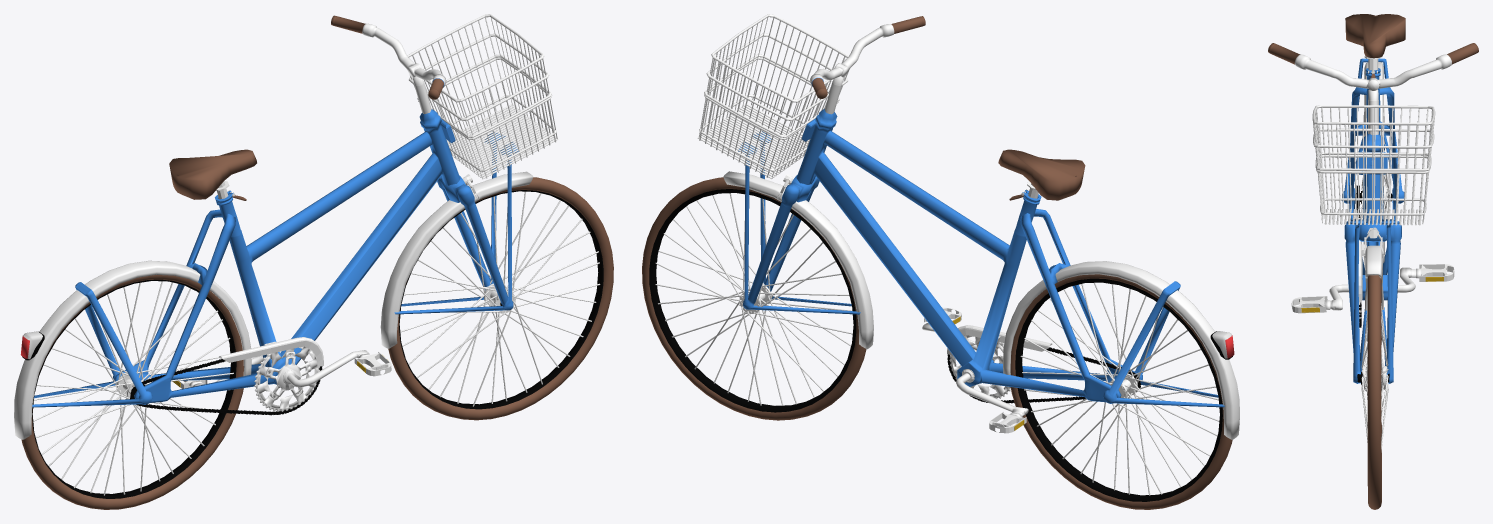
File: Bicycle.fbx
The picture shows the model from 3 angles, left to right: view 1: azimuth 30°, elevation 25°; view 2: azimuth 150°, elevation 25°; view 3: azimuth 270°, elevation 25°; orthographic projection.
Parts seen in each view (by area): view 1: Bike; view 2: Bike; view 3: Bike.
Part boxes in pixels (bbox=[...]): Bike: bbox=[14, 14, 613, 509]; Bike: bbox=[642, 14, 1239, 509]; Bike: bbox=[1268, 14, 1478, 509].
Bounding box in the file's own units: 363 × 229 × 110.
